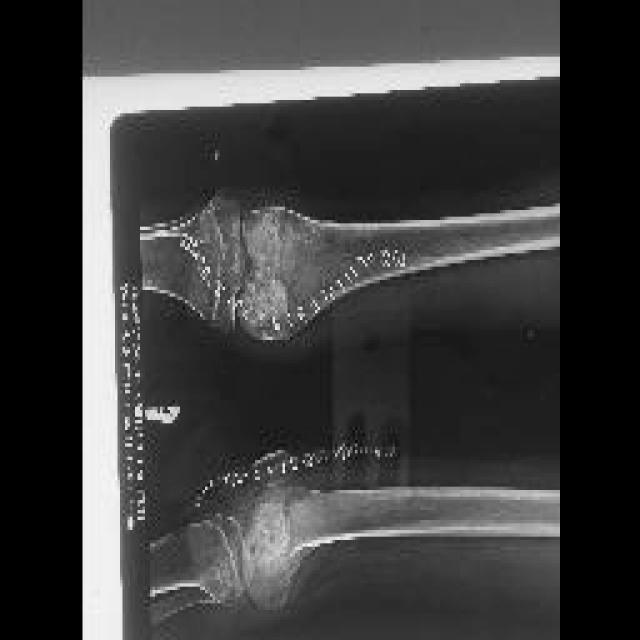bone-cancer: (242, 487, 291, 593)
